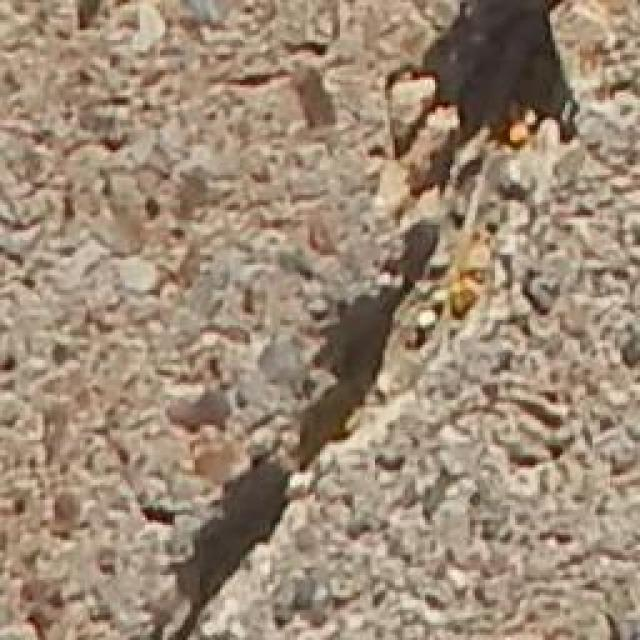concrete-crack: (150, 0, 640, 640)
